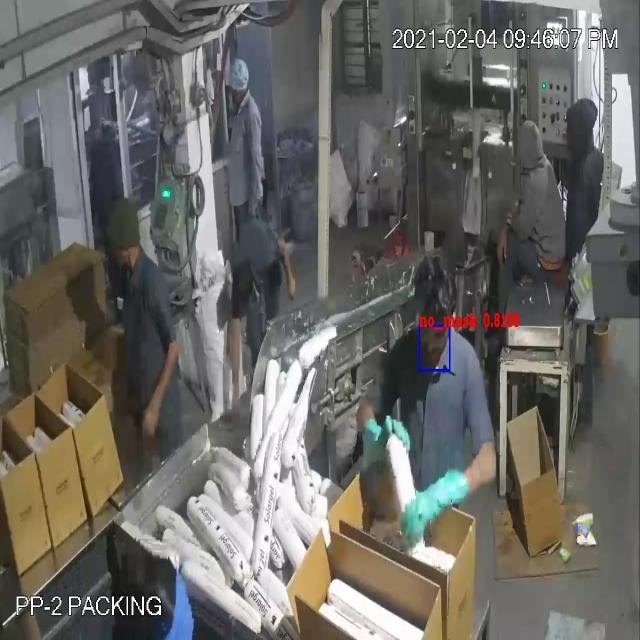No_Gloves: (23, 54, 508, 509)
